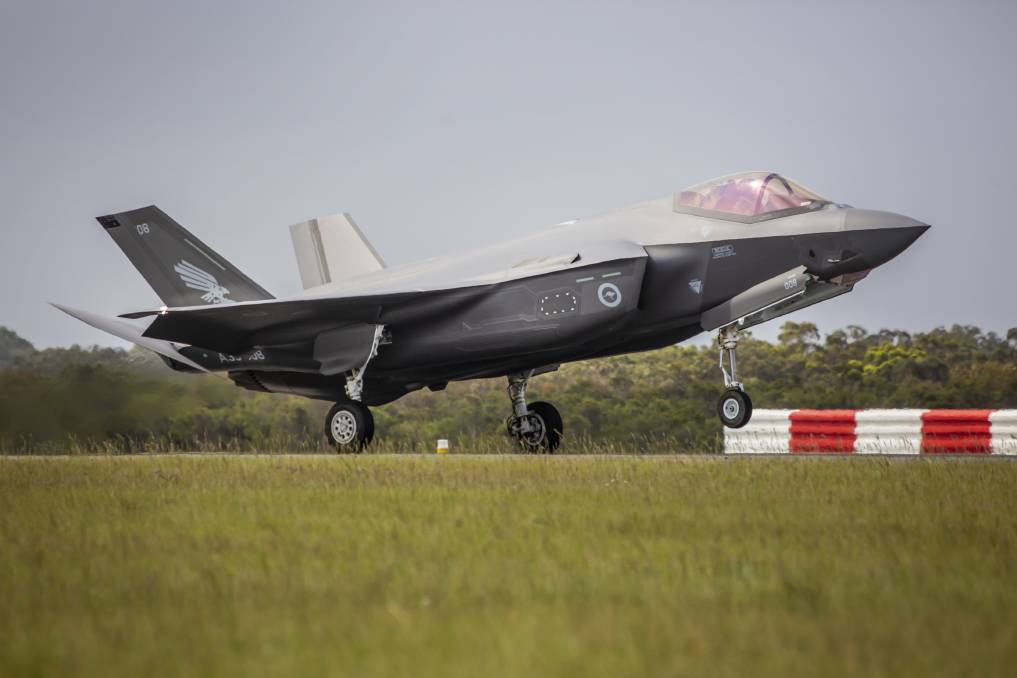F-35 Lightning: (39, 149, 959, 464)
